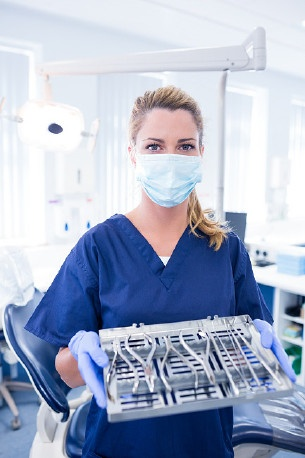Mask: (135, 132, 207, 204)
